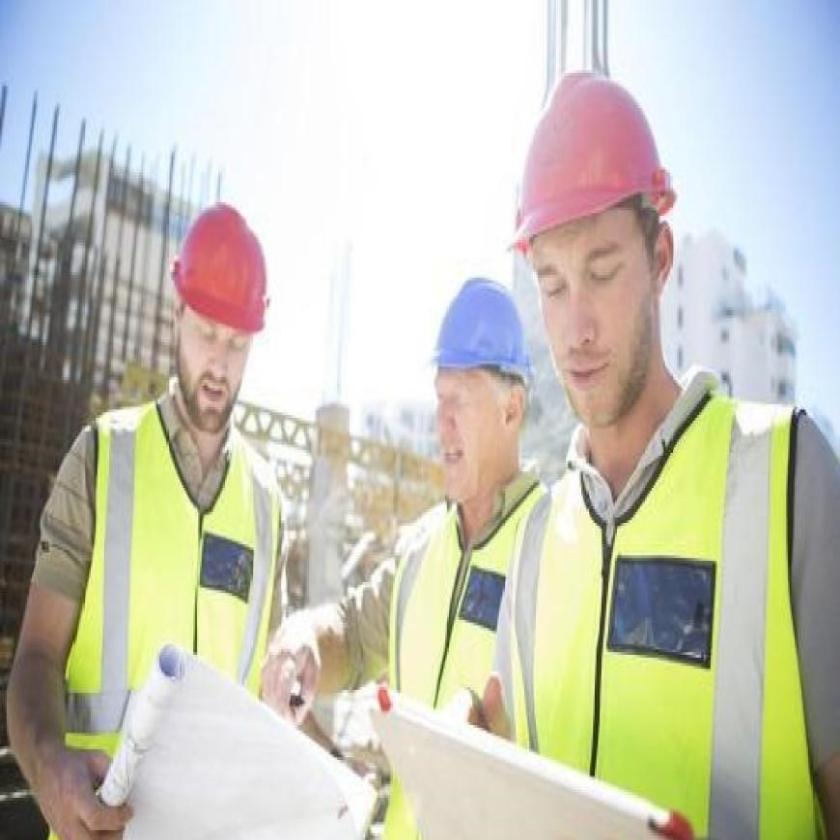Con_casco: (511, 71, 684, 438), (168, 196, 274, 442), (422, 277, 528, 497)
